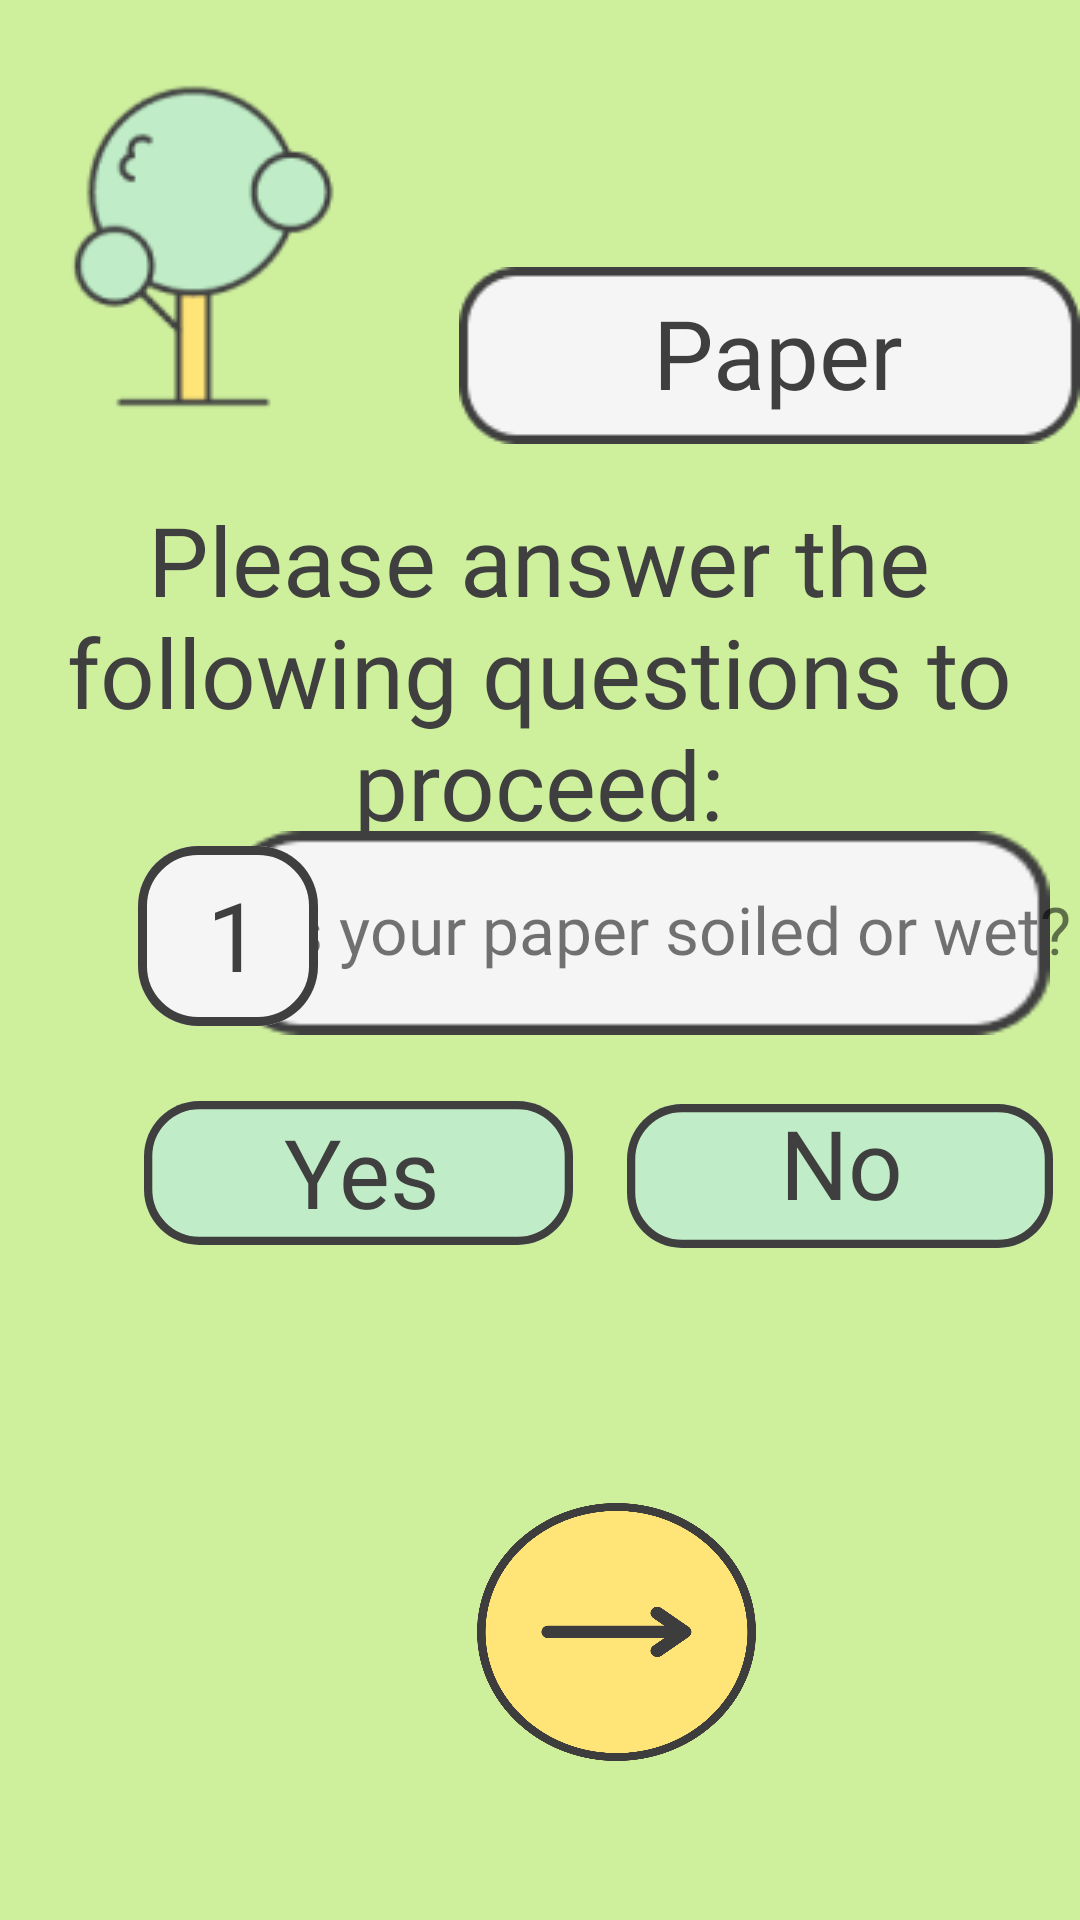

Icon bounding boxes for this 1080 × 1920 phone screenshot, format (x1, y1, x2, y2):
go arrow: (477, 1503, 756, 1761)
